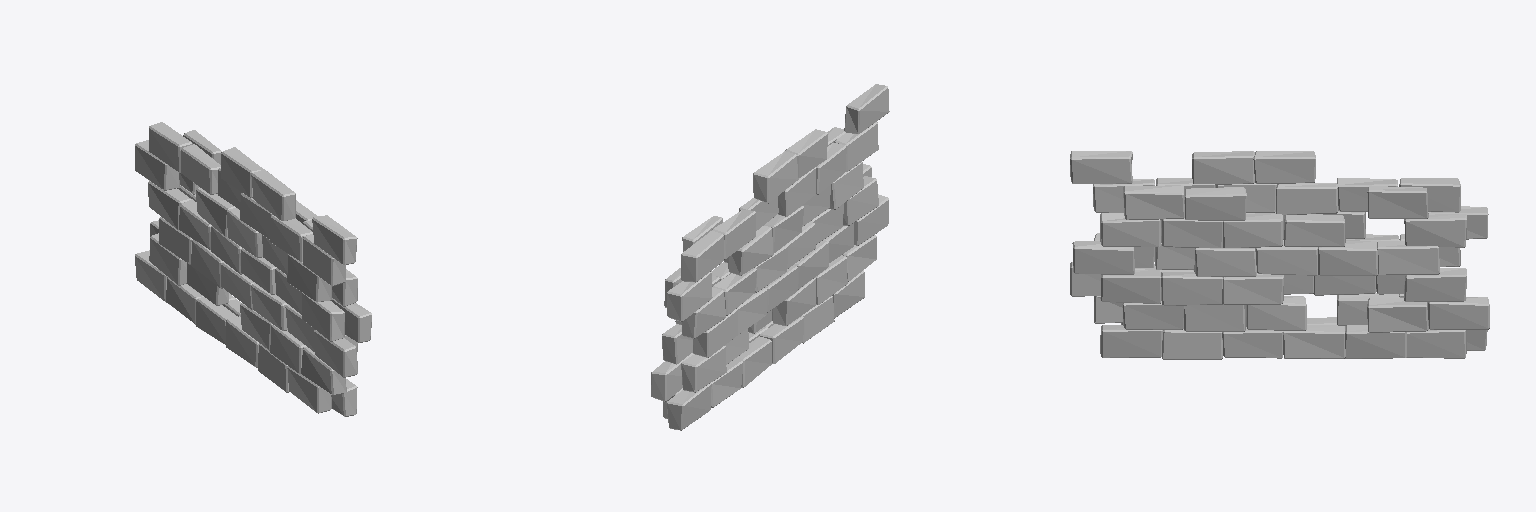
File: Bricks1.obj
3 renders of one model, left to right at view 1: azimuth 30°, elevation 25°; view 2: azimuth 150°, elevation 25°; view 3: azimuth 270°, elevation 25°, orthographic.
Parts seen in each view (by area): view 1: Bricks_1; view 2: Bricks_1; view 3: Bricks_1.
Part boxes in pixels (bbox=[...]): Bricks_1: bbox=[135, 122, 371, 416]; Bricks_1: bbox=[651, 84, 889, 430]; Bricks_1: bbox=[1070, 151, 1489, 359].
Size of the model in its own units: 0.9527 by 4.71 by 9.16.